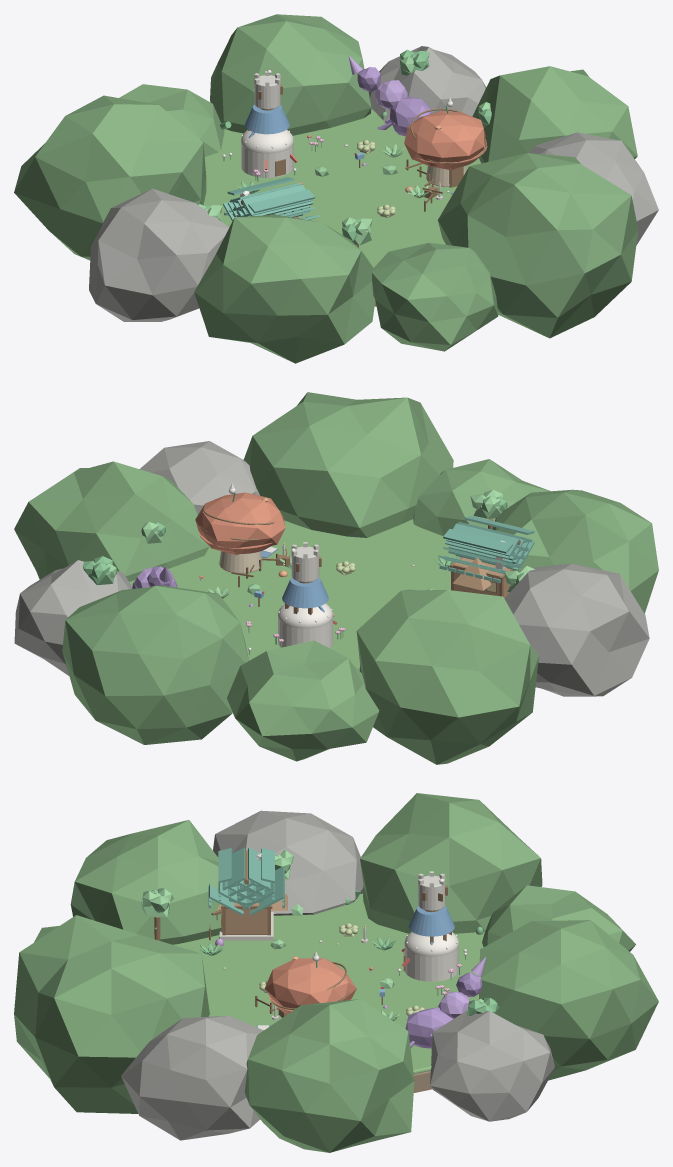
Rendered from village_core4.glb.
3 views of the same model, one above another, from view 1: azimuth 30°, elevation 25°; view 2: azimuth 150°, elevation 25°; view 3: azimuth 270°, elevation 25° (orthographic). The views are drawn at different scales.
Visible parts, largest first — view 1: hill_8, hill_6, hill_4, terrain_grass, hill_2, hill_5, hill_7, hill_0, hill_9, hill_1, mushroom_cap, hill_3 (+8 smaller); view 2: hill_4, hill_2, hill_8, terrain_grass, hill_0, hill_5, hill_3, hill_6, hill_1, hill_7, hill_9, mushroom_cap (+9 smaller); view 3: hill_8, hill_0, hill_2, hill_4, terrain_grass, hill_6, hill_9, hill_1, hill_5, hill_3, mushroom_cap, tower_pot (+8 smaller).
Part boxes in pixels (x1,y1,x2,y2): hill_8: (438,153,638,338); hill_6: (194,213,375,363); hill_4: (14,95,206,260); terrain_grass: (203,108,481,267); hill_2: (210,14,371,135); hill_5: (89,188,229,321); hill_7: (372,243,498,351); hill_0: (472,66,637,163); hill_9: (529,132,658,245); hill_1: (368,46,486,121); mushroom_cap: (404,110,485,170); hill_3: (119,84,224,156); hill_4: (356,589,538,764); hill_2: (62,585,248,744); hill_8: (243,392,453,537); terrain_grass: (129,519,458,670); hill_0: (14,461,209,581); hill_5: (504,563,649,696); hill_3: (227,640,379,761); hill_6: (492,489,658,613); hill_1: (14,560,132,675); hill_7: (413,459,550,535); hill_9: (139,441,259,514); mushroom_cap: (195,492,285,554); hill_8: (14,915,209,1113); hill_0: (244,999,414,1152); hill_2: (479,920,658,1080); hill_4: (360,793,542,933); terrain_grass: (173,893,484,1074); hill_6: (70,820,221,944); hill_9: (121,1015,263,1140); hill_1: (430,1010,554,1121); hill_5: (213,810,363,915); hill_3: (482,885,635,951); mushroom_cap: (264,958,356,1008); tower_pot: (404,945,458,981).
Bounding box in the file's own units: 41.75 × 11.86 × 40.42.
